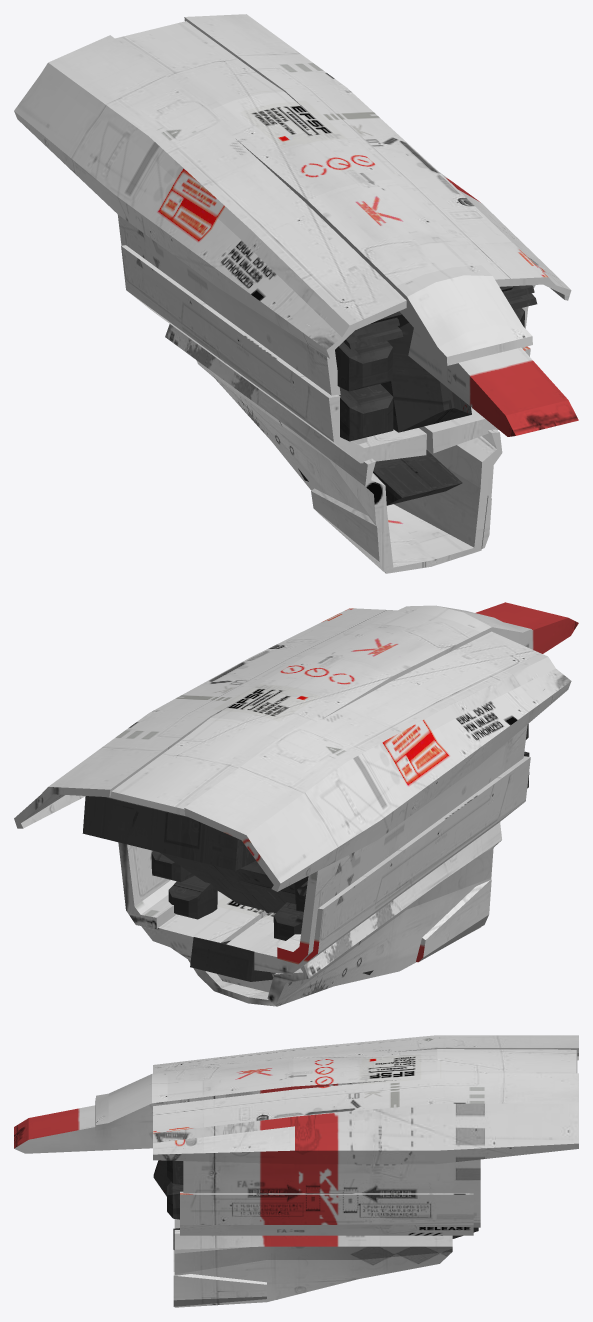
The model's file is body04.FBX.
The picture shows the model from 3 angles, top to bottom: view 1: azimuth 30°, elevation 25°; view 2: azimuth 150°, elevation 25°; view 3: azimuth 270°, elevation 25°; orthographic projection. The views are drawn at different scales.
Parts seen in each view (by area): view 1: body04; view 2: body04; view 3: body04.
Boxes of the visible parts, box(x1,y1,x2,y2) form: body04: box(14, 14, 578, 573); body04: box(14, 602, 578, 1006); body04: box(14, 1035, 578, 1307).
Bounding box in the file's own units: 348 × 415 × 905.
